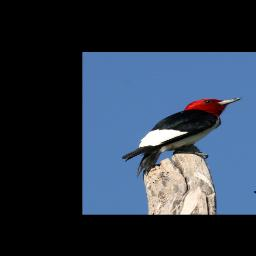Woodpecker: (117, 97, 246, 178)
